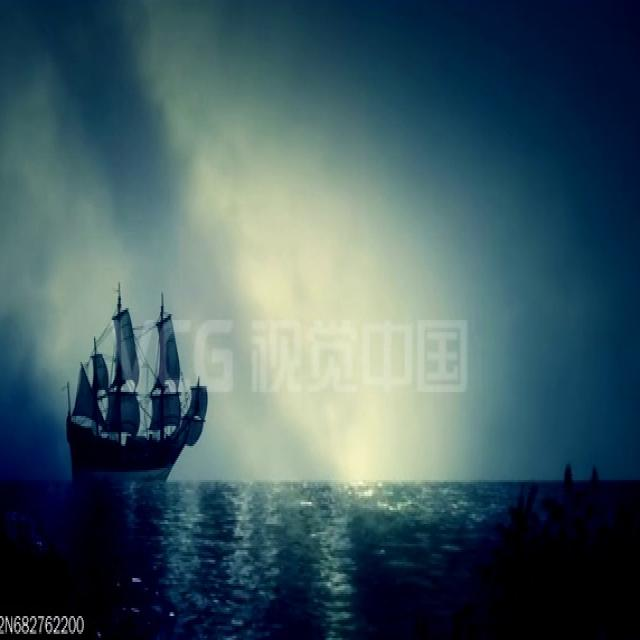sailboat: (57, 283, 209, 472)
